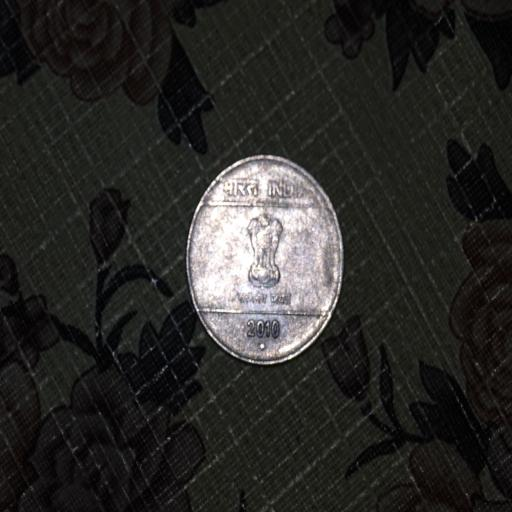rupee2: (183, 155, 346, 370)
